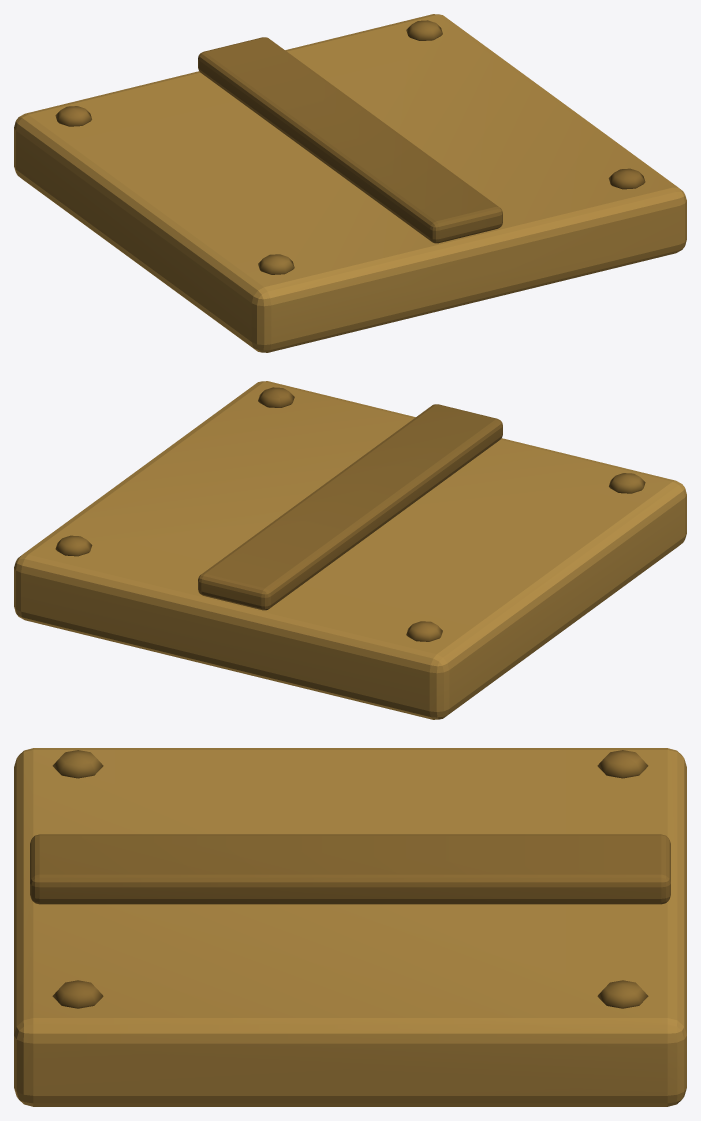
Rendered from grotto_pipe_bracket.glb.
3 renders of one model, top to bottom at view 1: azimuth 30°, elevation 25°; view 2: azimuth 150°, elevation 25°; view 3: azimuth 270°, elevation 25°, orthographic. The views are drawn at different scales.
Visible parts, largest first — view 1: grotto_pipe_bracket; view 2: grotto_pipe_bracket; view 3: grotto_pipe_bracket.
Boxes of the visible parts, x1=… form: grotto_pipe_bracket: x1=14, y1=14, x2=686, y2=352; grotto_pipe_bracket: x1=14, y1=381, x2=686, y2=719; grotto_pipe_bracket: x1=14, y1=748, x2=686, y2=1106.
Bounding box in the file's own units: 4.2 × 0.8 × 4.2.
